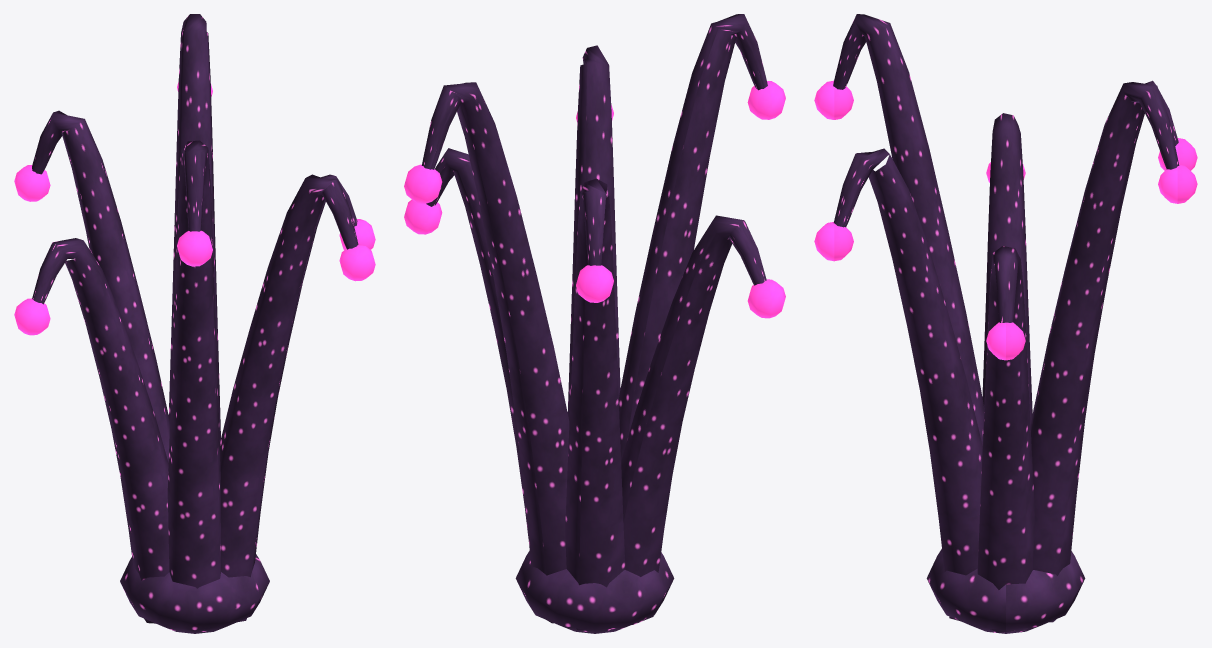
File: sf_willow.glb
The picture shows the model from 3 angles, left to right: view 1: azimuth 30°, elevation 25°; view 2: azimuth 150°, elevation 25°; view 3: azimuth 270°, elevation 25°; orthographic projection. The views are drawn at different scales.
Parts seen in each view (by area): view 1: Base; view 2: Base; view 3: Base.
Boxes of the visible parts, left/top/right/bottom form: Base: left=14, top=14, right=375, bottom=633; Base: left=404, top=14, right=785, bottom=633; Base: left=814, top=14, right=1197, bottom=633.
Size of the model in its own units: 0.88 by 1.27 by 0.7728.
2 materials, 2 textured.
